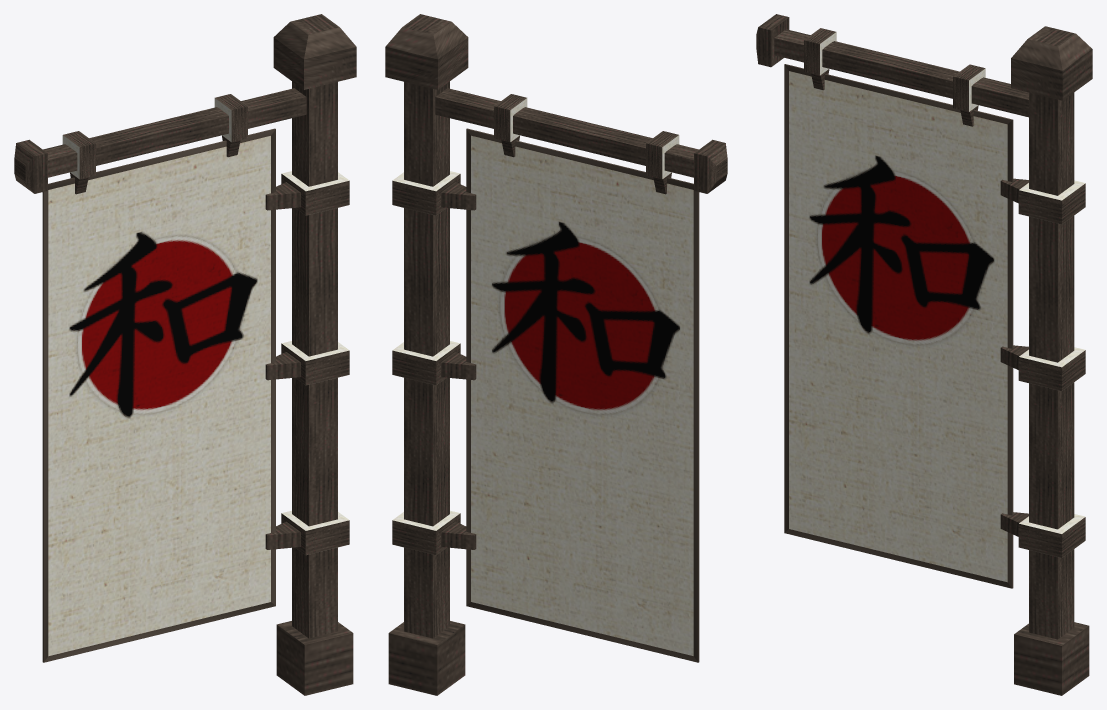
Rendered from placa-tecido1.fbx.
The picture shows the model from 3 angles, left to right: view 1: azimuth 30°, elevation 25°; view 2: azimuth 150°, elevation 25°; view 3: azimuth 330°, elevation 25°; orthographic projection.
Parts seen in each view (by area): view 1: Cube; view 2: Cube; view 3: Cube.
Part boxes in pixels (x1,y1,x2,y2): Cube: (14,14,356,695); Cube: (385,14,727,695); Cube: (756,14,1092,695).
Bounding box in the file's own units: 1.03 × 2 × 0.168.
